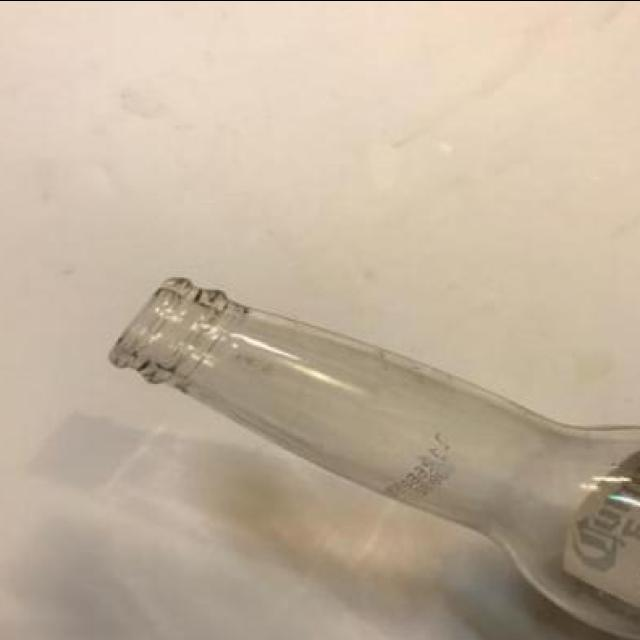kaca: (105, 276, 640, 640)
